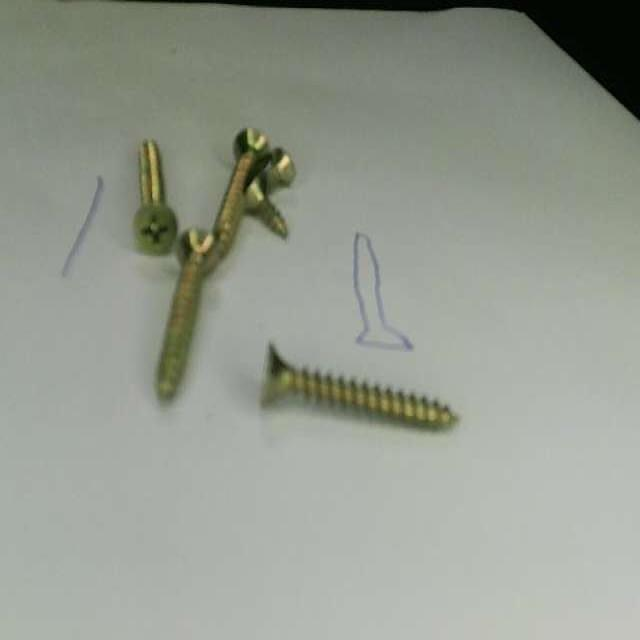Parafuso: (262, 344, 456, 429), (155, 228, 217, 399), (213, 127, 268, 249), (134, 140, 176, 254), (245, 179, 287, 238), (265, 148, 296, 193)
